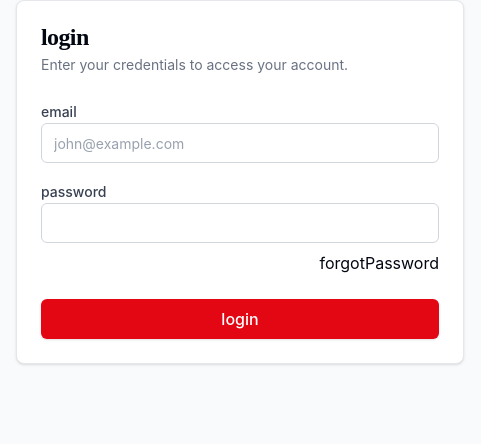
Test case: LoginForm UI › should display generic error message on unexpected error
Type "test@example.com" into the field labelled "email" at (240, 143), box [41, 123, 439, 163]
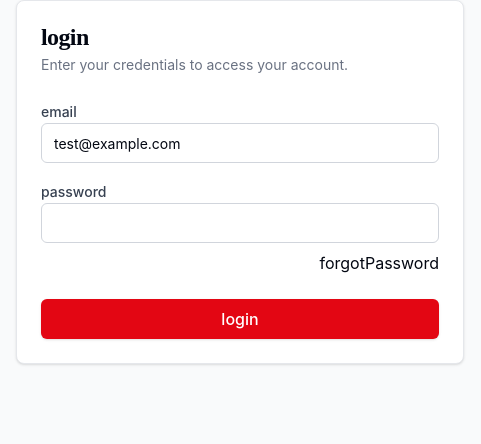
Type "password" into the password field labelled "password" at (240, 223), box [41, 203, 439, 243]
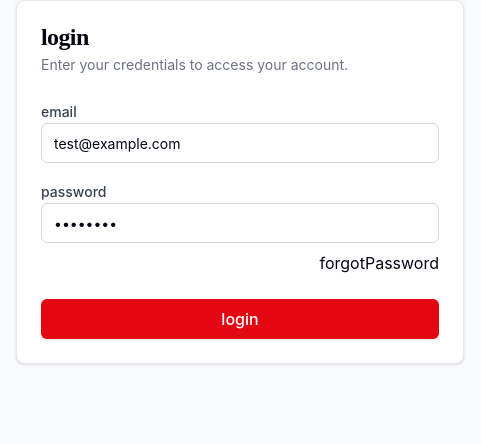
Click the button "login" at (240, 319), box [41, 299, 439, 339]
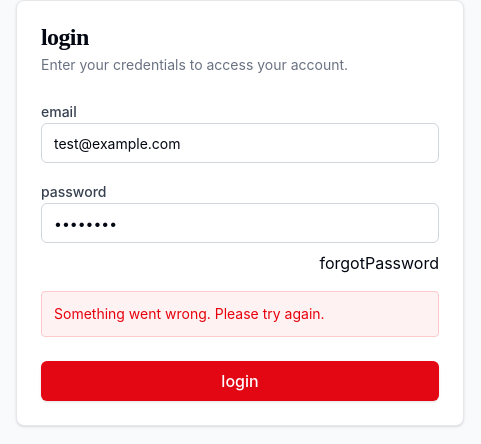
Result: the message shows "Something went wrong" at [54, 305, 325, 322]
